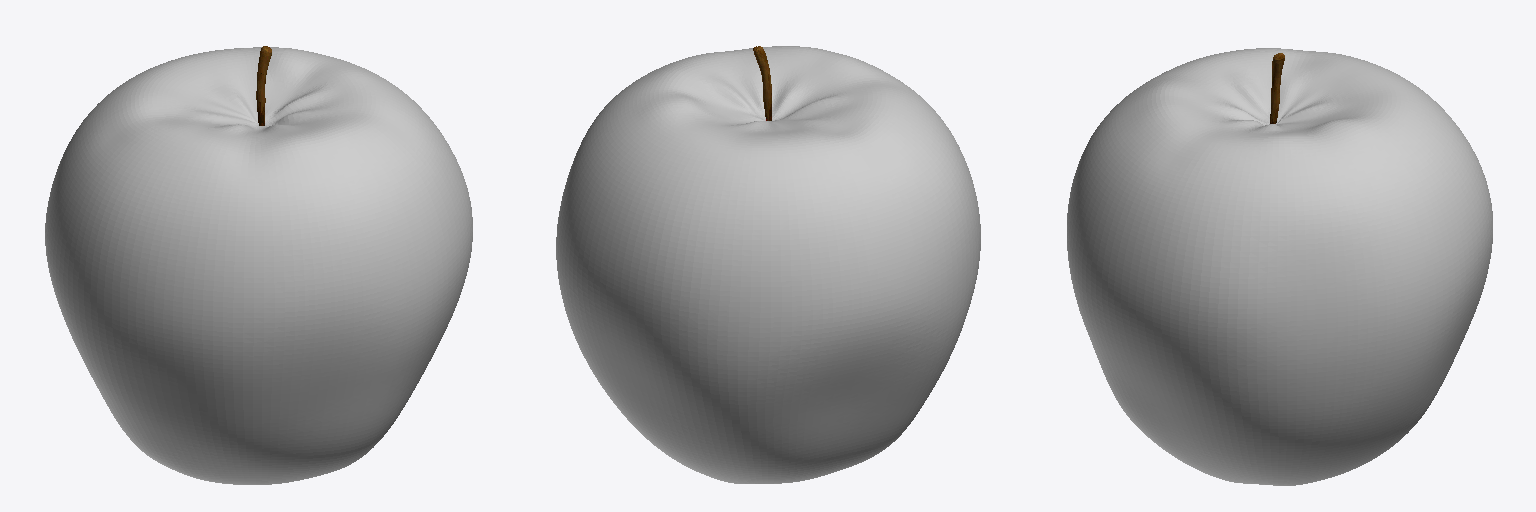
3 renders of one model, left to right at view 1: azimuth 30°, elevation 25°; view 2: azimuth 150°, elevation 25°; view 3: azimuth 270°, elevation 25°, orthographic.
Visible parts, largest first — view 1: Apple, Cylinder; view 2: Apple, Cylinder; view 3: Apple, Cylinder.
Boxes of the visible parts, x1,y1,x2,y2 form: Apple: [45, 47, 472, 484]; Cylinder: [256, 46, 271, 125]; Apple: [556, 46, 980, 483]; Cylinder: [753, 46, 771, 120]; Apple: [1067, 48, 1492, 485]; Cylinder: [1270, 53, 1284, 123].
Bounding box in the file's own units: 1.98 × 2.13 × 1.99.
Materials: 2 (1 with a texture image).